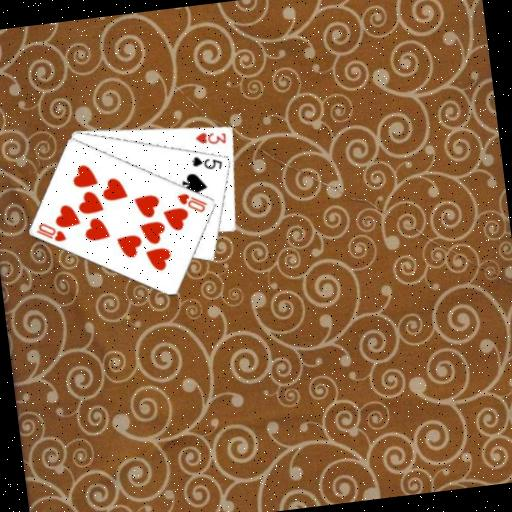10H: (174, 188, 210, 217), (33, 217, 69, 246)
3H: (192, 126, 229, 148)
5S: (189, 150, 225, 174)
